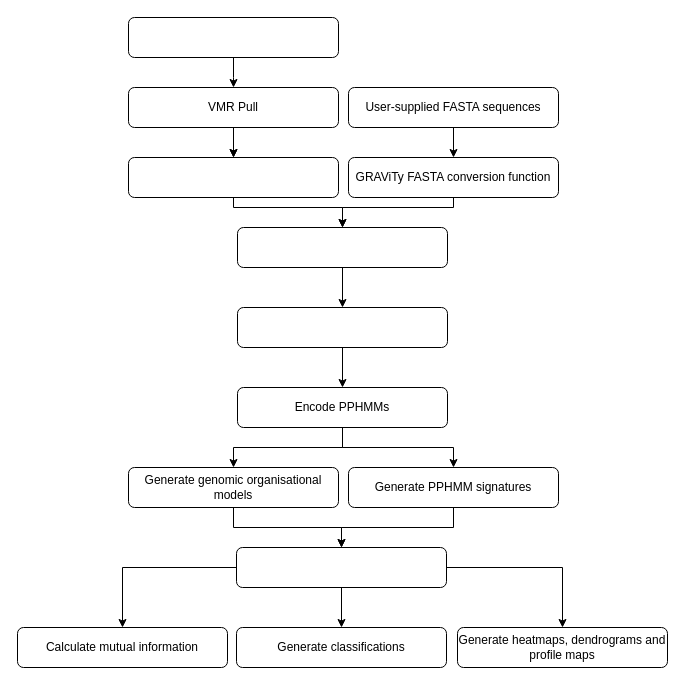
Image size: 685x685. Some labels were removed from this diagram. The shapes that lost their labels are listed below. From the top down, each one's centre as x and y in pixels, then its label:
point 233,37: GRAViTy reference database scrape & filter functions
point 233,177: GenBank Pull
point 342,247: Split genomes into ORFs
point 342,327: Align and cluster ORFs
point 341,567: Calculate similarity scores
